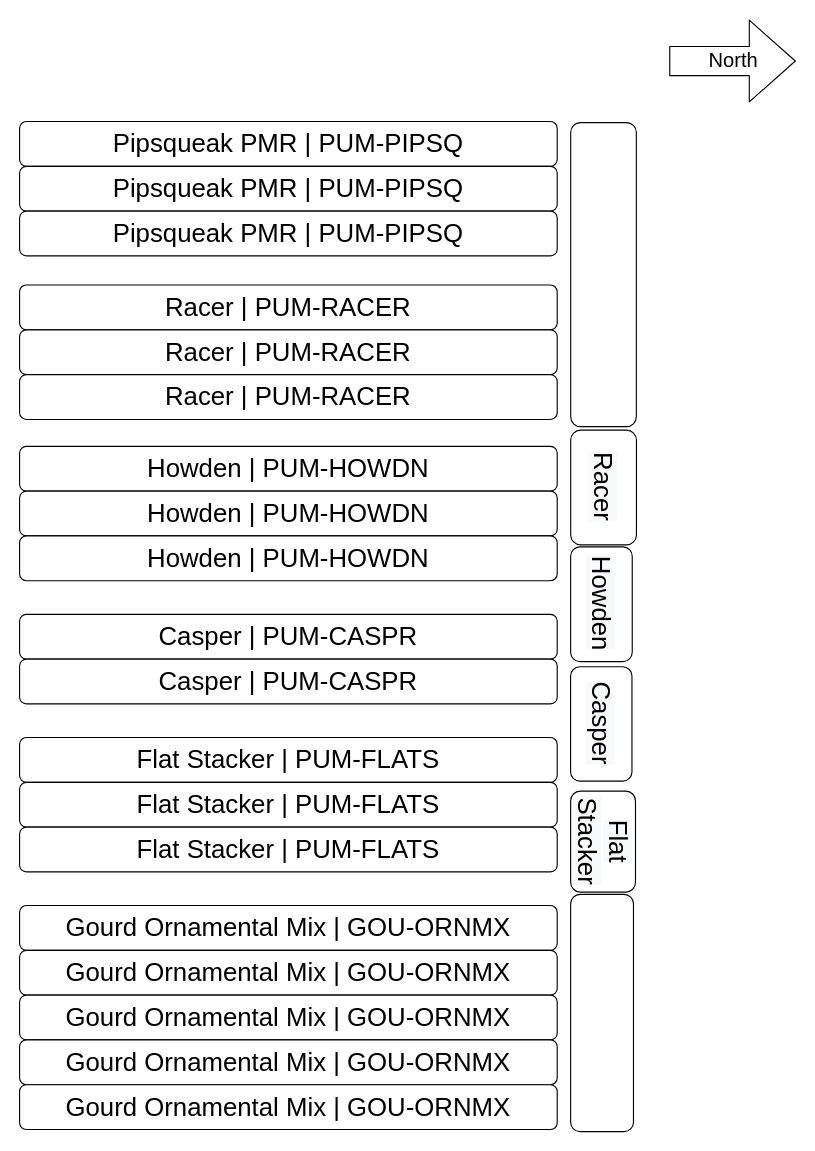
Some shapes in this 815 by 1151 pixel diagram are drawn without their labels. The shapes that lost their labels are listed below. From the top down, each one's centre as x and y in pixels, then its label:
(x=603, y=274): Pipsqueak
(x=601, y=1012): Gourd
